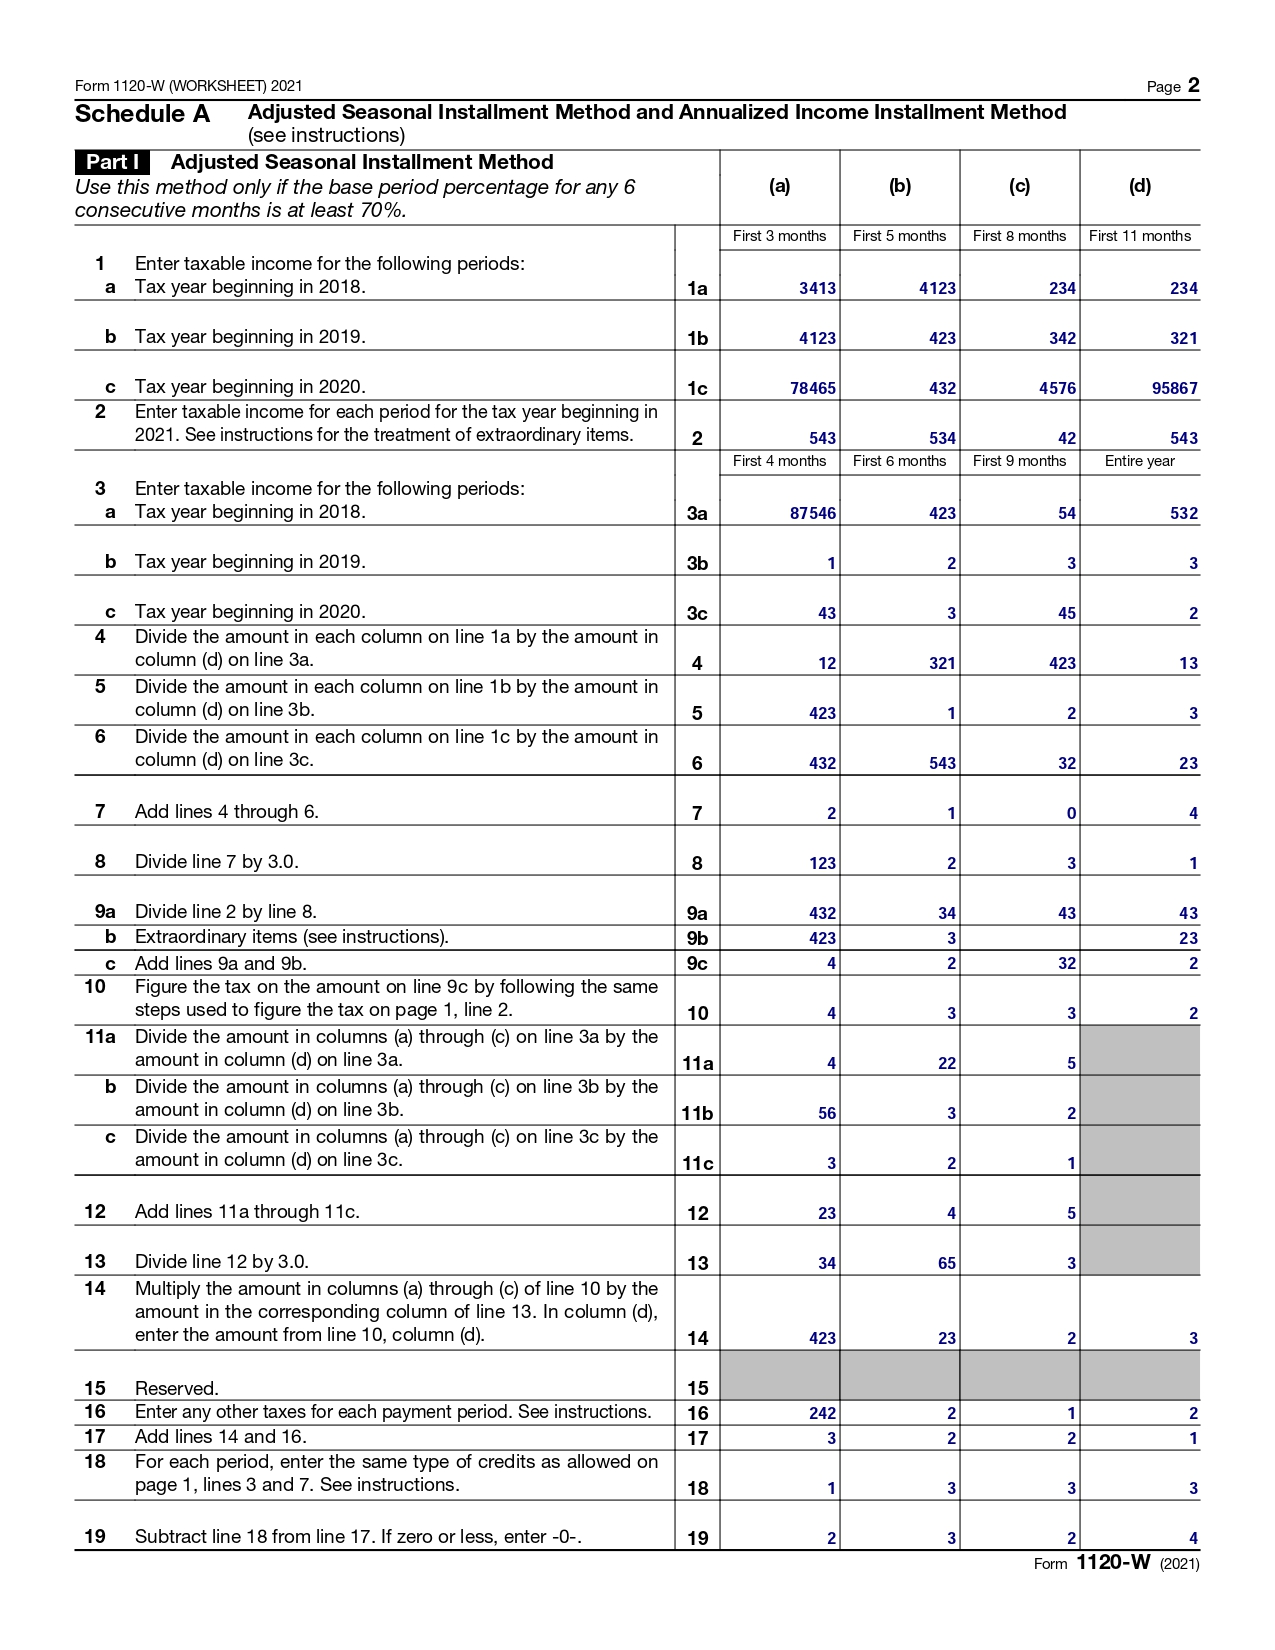table: (58, 147, 1225, 1558)
